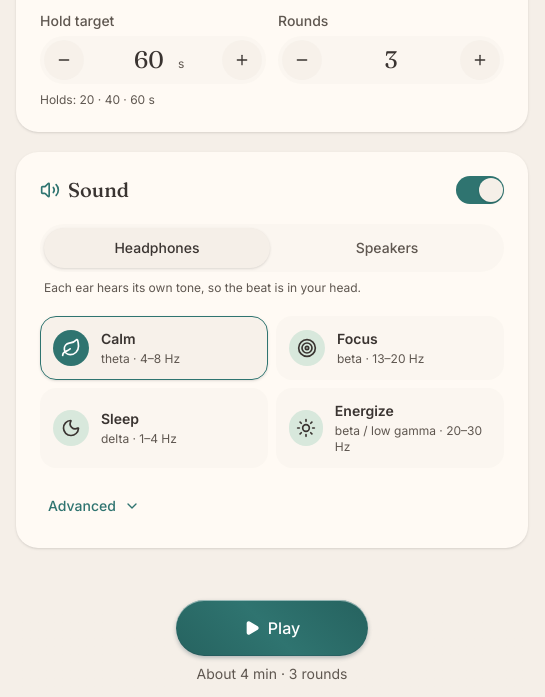
Test: BreathePage › should show the timer view when Play is pressed with the default settings
(page scrolled)
What coordinates should you click on to do the following:
click the button "Play"
I would click on:
 (272, 628)
Its box is top-left (176, 600), bottom-right (368, 656).
(page scrolled)
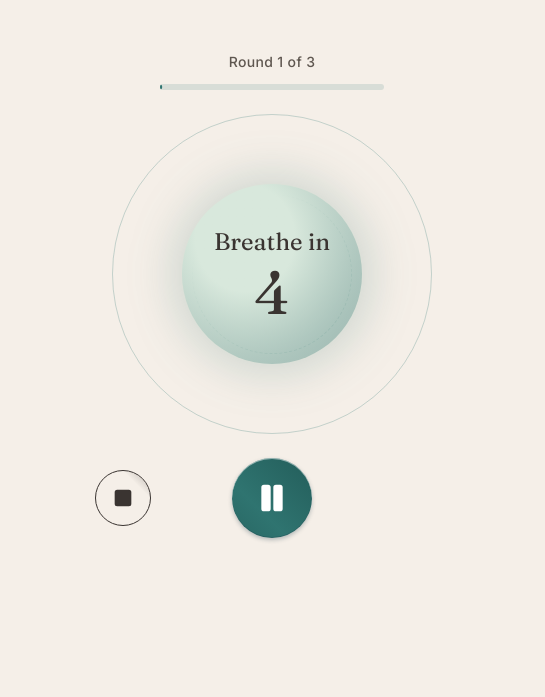
Now the element named "Breathing session" is shown, box top-left (95, 53), bottom-right (432, 538)
Now the text "Breathe in" is shown, box top-left (214, 226), bottom-right (330, 258)
